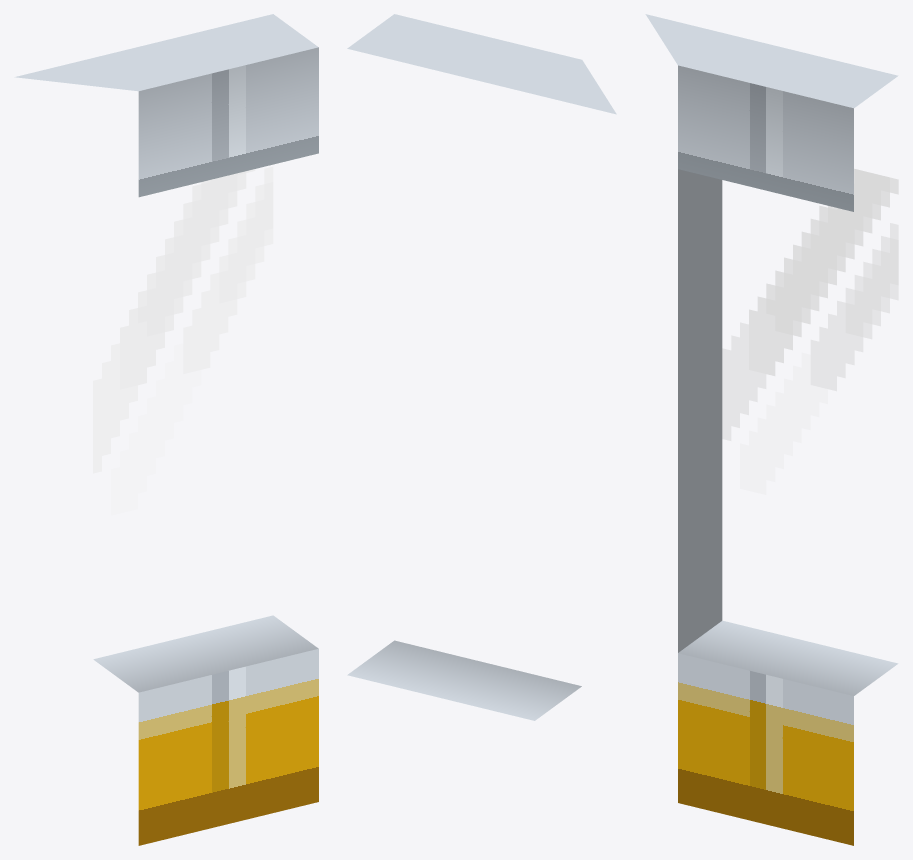
3 renders of one model, left to right at view 1: azimuth 30°, elevation 25°; view 2: azimuth 150°, elevation 25°; view 3: azimuth 330°, elevation 25°, orthographic. The views are drawn at different scales.
Bounding box in the file's own units: 1.44 × 4 × 0.4375.
Materials: 2 (2 with a texture image).
